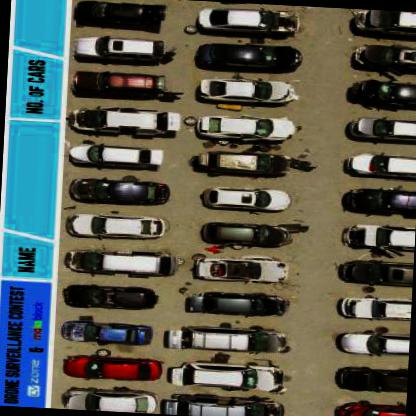car: (170, 357, 285, 391), (68, 103, 181, 136), (165, 322, 288, 352), (192, 2, 300, 36), (64, 246, 178, 278), (195, 40, 300, 74), (64, 210, 170, 241), (68, 174, 167, 206), (189, 113, 302, 141), (71, 67, 167, 98), (198, 218, 294, 248), (163, 392, 286, 415), (184, 290, 288, 317), (74, 0, 165, 30), (62, 282, 159, 310), (69, 140, 166, 168), (65, 352, 161, 380), (74, 31, 166, 60), (341, 183, 415, 219), (196, 148, 290, 176), (199, 76, 294, 102), (194, 256, 288, 282), (199, 184, 293, 210), (63, 317, 153, 344), (348, 74, 415, 110), (66, 386, 158, 412), (341, 220, 413, 253), (336, 327, 408, 360), (336, 361, 407, 394), (350, 40, 415, 74), (338, 256, 412, 285), (344, 149, 415, 179), (338, 293, 410, 322), (347, 113, 415, 143), (334, 397, 407, 415), (359, 9, 415, 31)
